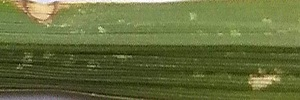RiceBlast: (1, 1, 91, 26), (247, 64, 284, 92)
